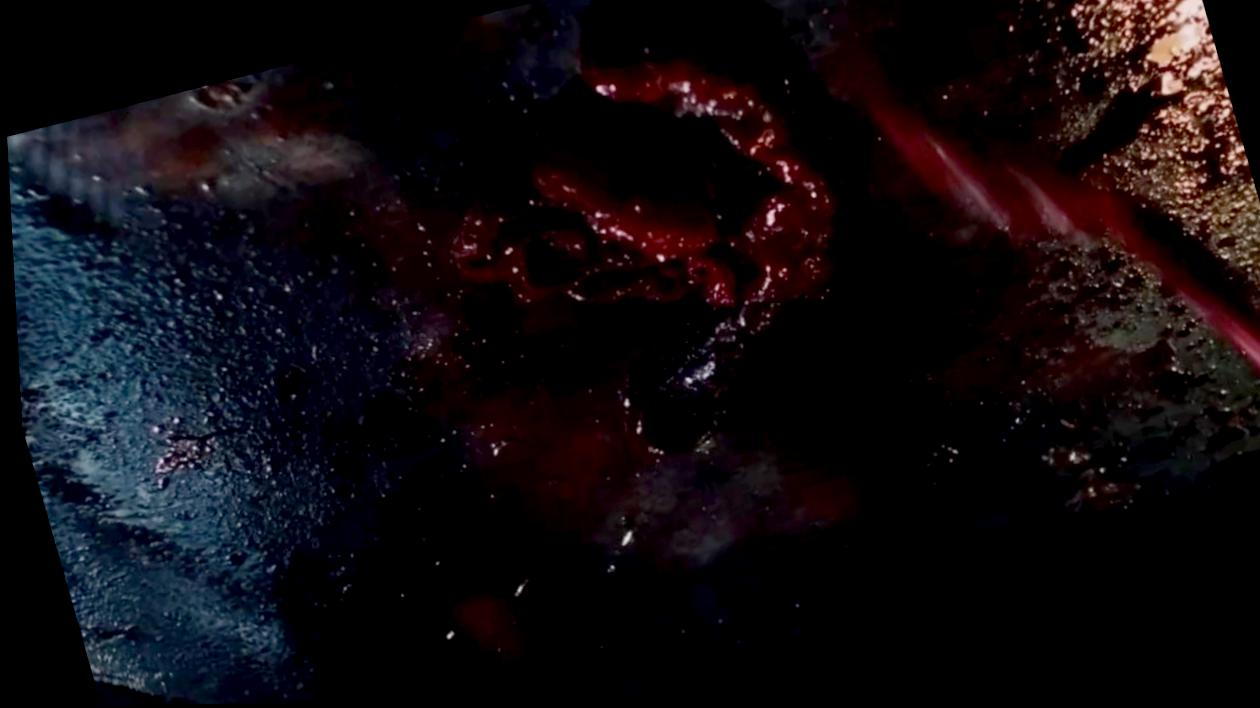Fire: (450, 18, 832, 456), (827, 52, 1260, 379)
